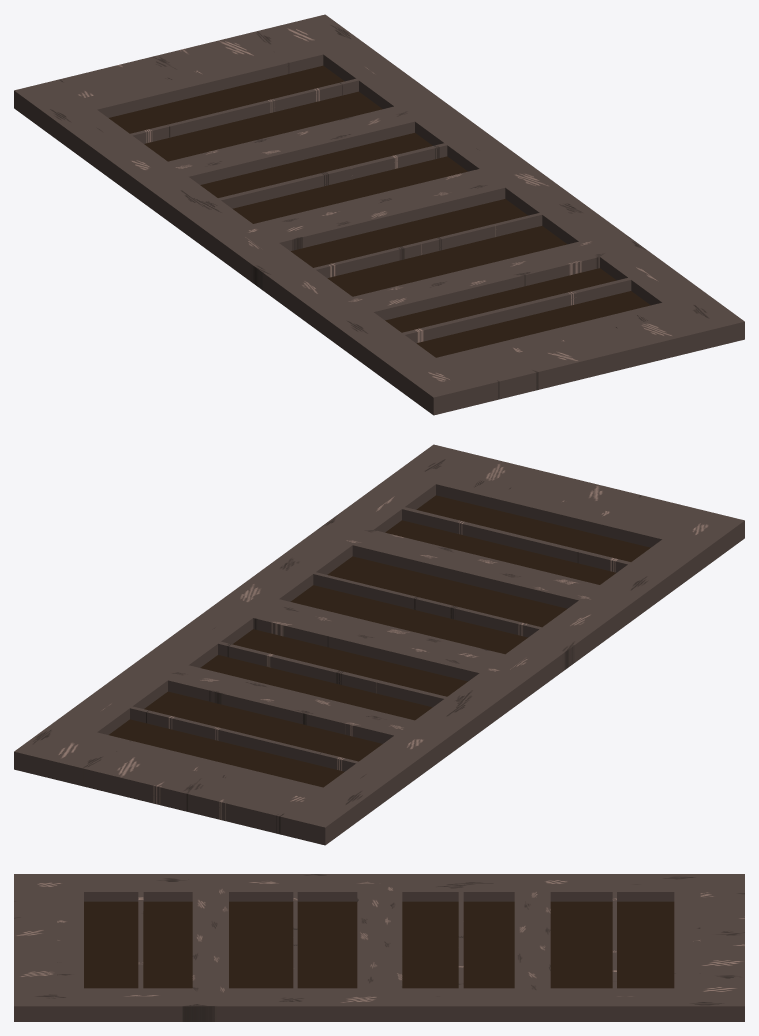
File: plaque.fbx
3 renders of one model, top to bottom at view 1: azimuth 30°, elevation 25°; view 2: azimuth 150°, elevation 25°; view 3: azimuth 270°, elevation 25°, orthographic. The views are drawn at different scales.
Parts seen in each view (by area): view 1: Plane; view 2: Plane; view 3: Plane.
Part boxes in pixels (<box>): Plane: <box>14,14,744,415</box>; Plane: <box>14,444,744,845</box>; Plane: <box>14,874,744,1021</box>.
Size of the model in its own units: 200 by 11 by 467.
Materials: 2 (1 with a texture image).
